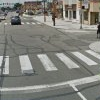crosswalk: (0, 49, 99, 75), (4, 21, 40, 25)
